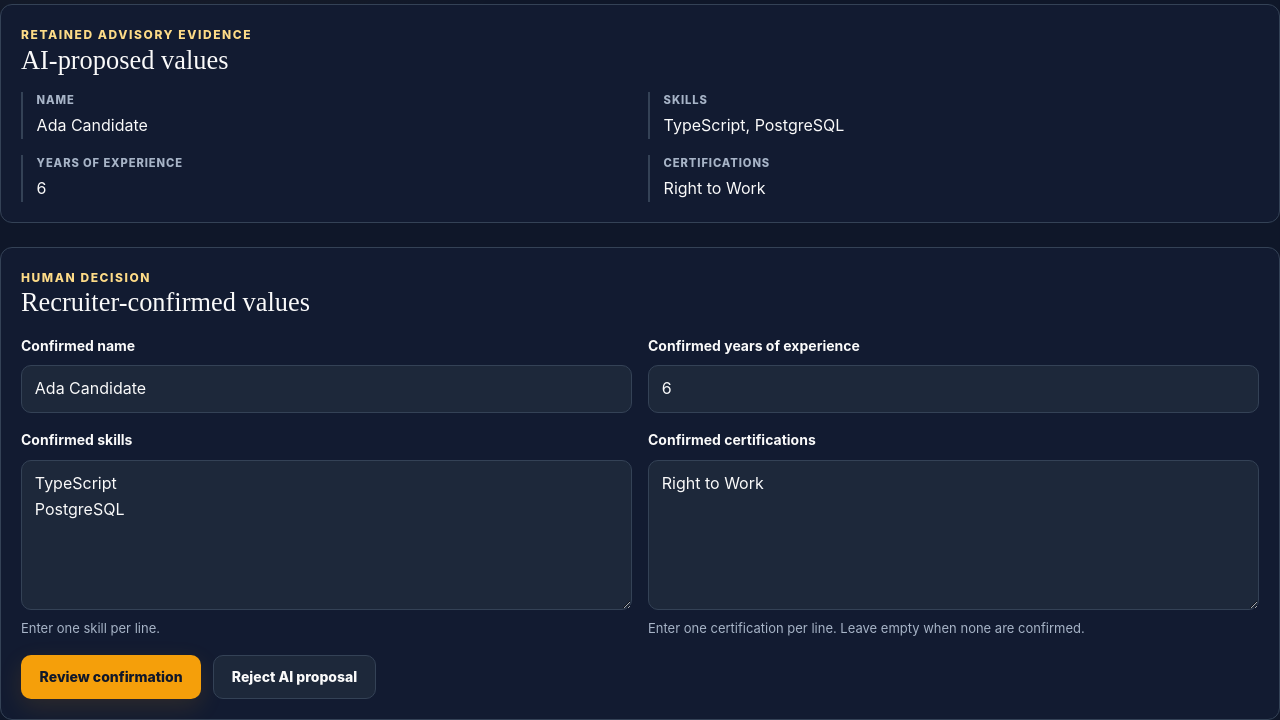
Test: CvProposalReview › uses explicit proposal-only rejection and never represents the Candidate as rejected
(page scrolled)
Click the button "Reject AI proposal" at (294, 677), box [213,655,376,699]
(page scrolled)
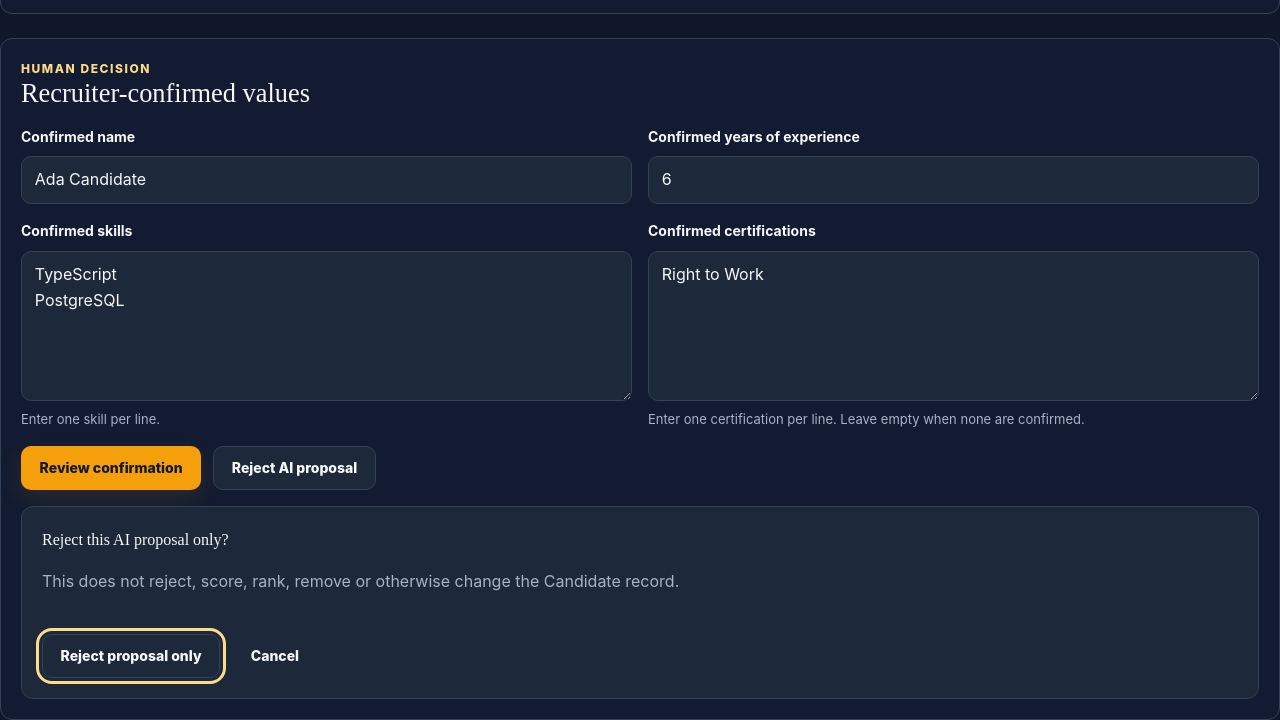
Now the heading "Reject this AI proposal only?" is shown, box [42,531,229,548]
Now the text "does not reject, score, rank, remove" is shown, box [42,571,679,591]
Click the button "Reject proposal only" at (131, 656), box [42,634,220,678]
(page scrolled)
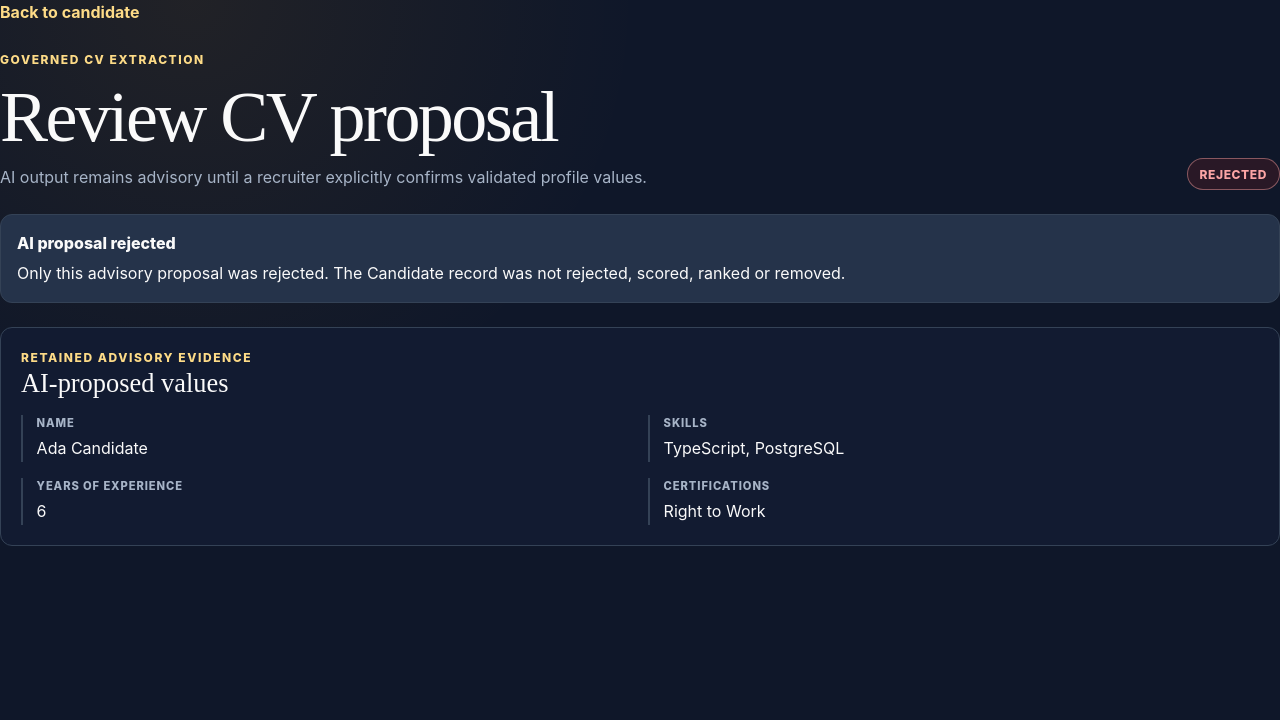
Now the text "AI proposal rejected" is shown, box [17,233,176,253]
Now the text "Candidate record was not rejected" is shown, box [17,263,845,283]
